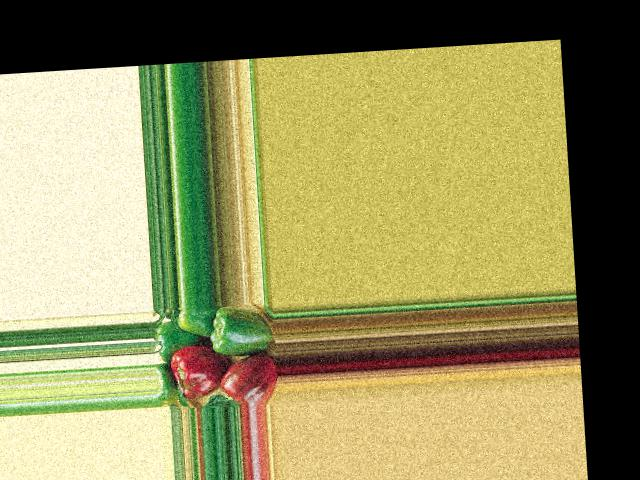bell_pepper: (219, 356, 279, 405)
